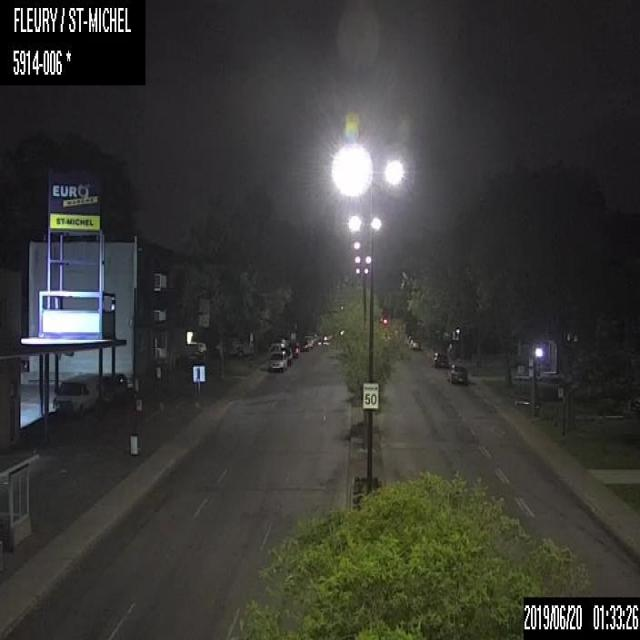vehicle: (51, 375, 99, 414), (98, 372, 127, 408), (446, 361, 467, 384), (268, 349, 287, 372), (428, 351, 448, 367), (268, 337, 286, 350), (280, 346, 292, 365), (407, 337, 422, 351), (300, 334, 313, 350), (288, 341, 300, 358), (311, 332, 320, 345)
